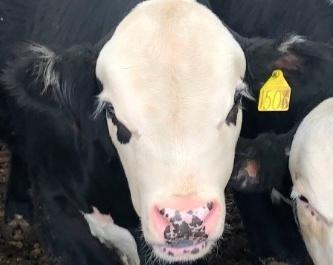muzzles: (141, 196, 229, 263)
